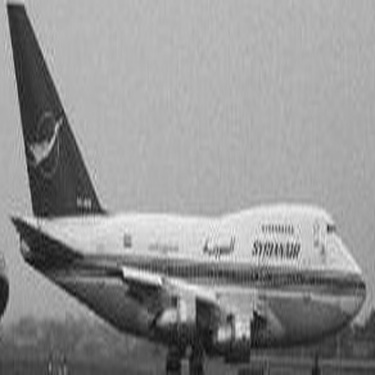airplane: (1, 1, 369, 372)
